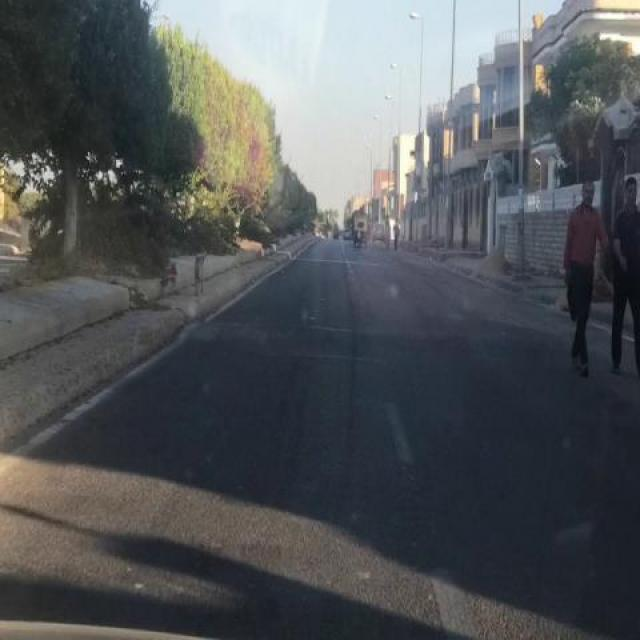Unmarked Bump: (180, 320, 570, 363)
